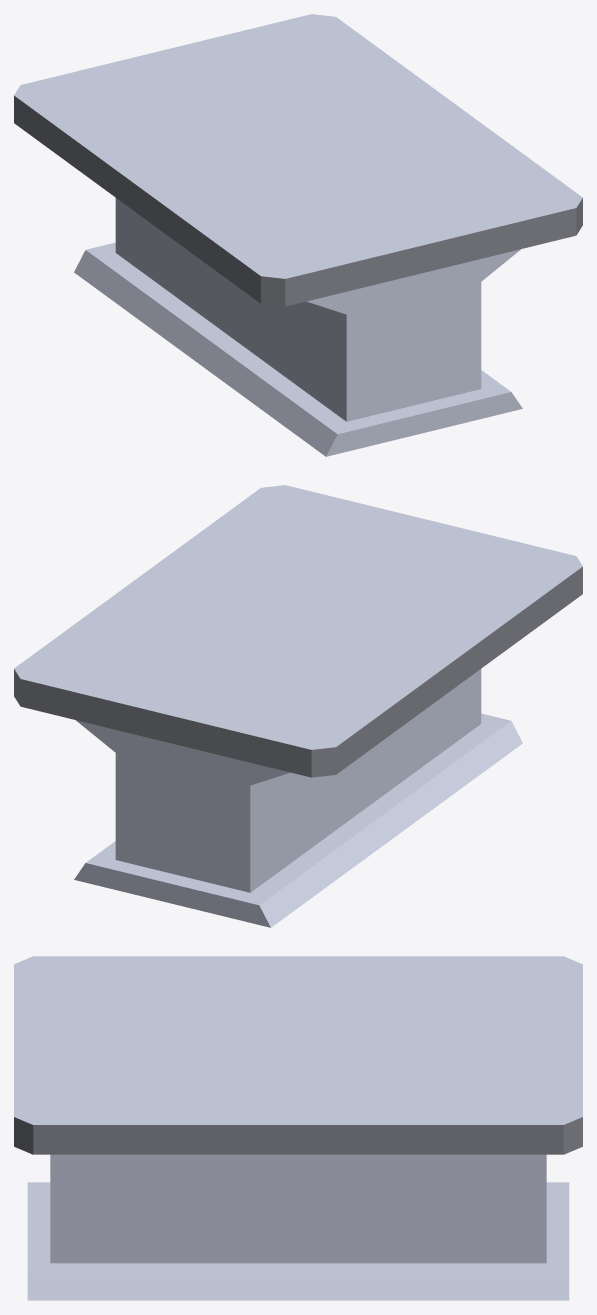
3 views of the same model, one above another, from view 1: azimuth 30°, elevation 25°; view 2: azimuth 150°, elevation 25°; view 3: azimuth 270°, elevation 25° (orthographic). The views are drawn at different scales.
Visible parts, largest first — view 1: object_058; view 2: object_058; view 3: object_058.
Part boxes in pixels (x1,y1,x2,y2): object_058: (14,14,582,456); object_058: (14,485,582,927); object_058: (14,956,582,1300).
Size of the model in its own units: 7.06 by 4.07 by 10.06.
